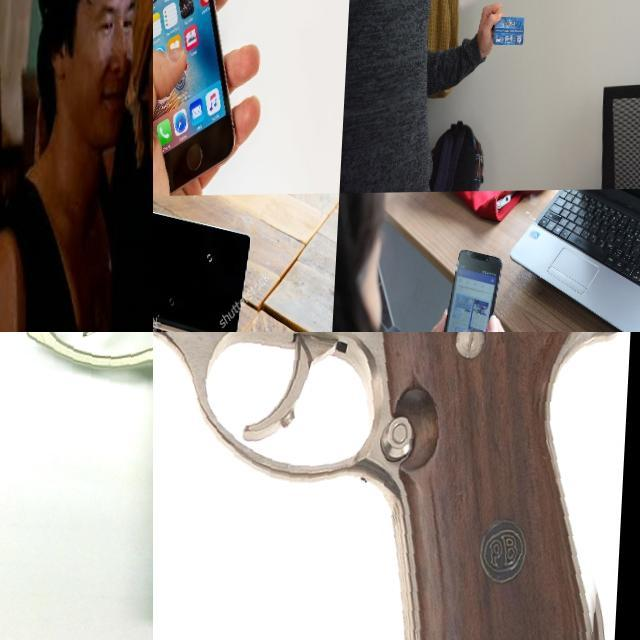gun-knife-thesis - v11 Yolov5 augmented: (153, 332, 634, 640), (0, 332, 153, 640)
